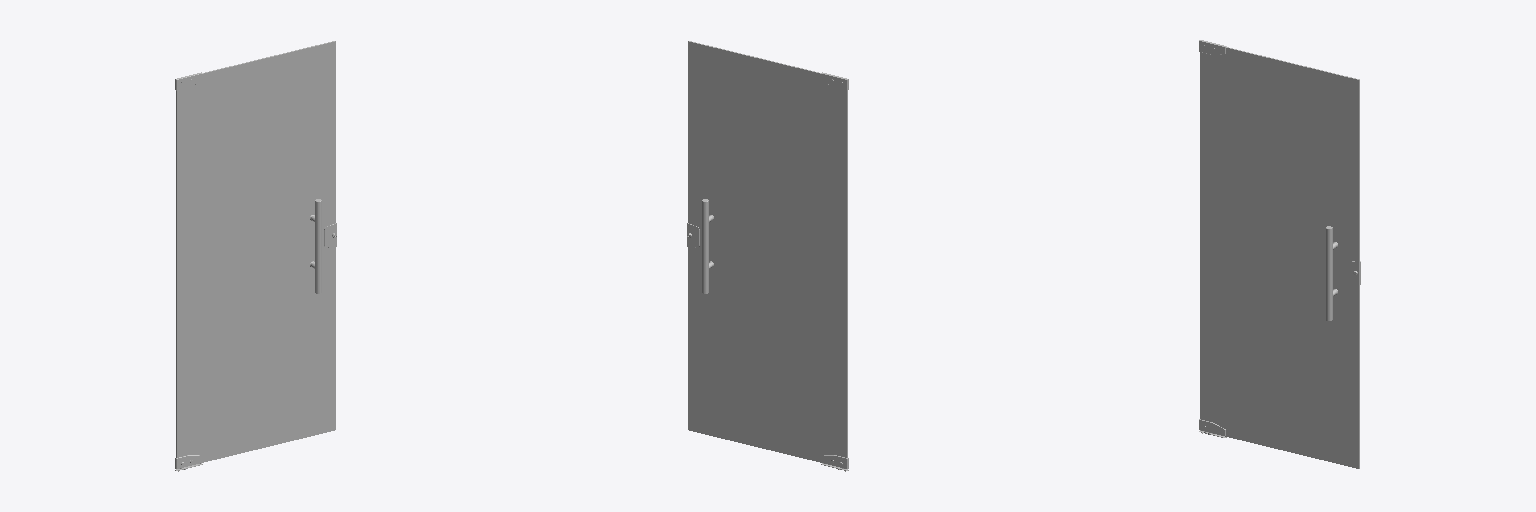
Rendered from door10.obj.
3 views of the same model, side by side, from view 1: azimuth 30°, elevation 25°; view 2: azimuth 150°, elevation 25°; view 3: azimuth 330°, elevation 25° (orthographic).
Parts seen in each view (by area): view 1: Cube_Cube.001, Cylinder.007_Cylinder.008, Cube.003_Cube.004; view 2: Cube_Cube.001, Cylinder.007_Cylinder.008, Cube.003_Cube.004; view 3: Cube_Cube.001, Cylinder.007_Cylinder.008, Cube.003_Cube.004.
Boxes of the visible parts, box(x1,y1,x2,y2) form: Cube_Cube.001: box(176, 41, 335, 462); Cylinder.007_Cylinder.008: box(310, 199, 321, 293); Cube.003_Cube.004: box(175, 72, 202, 468); Cube_Cube.001: box(688, 41, 847, 462); Cylinder.007_Cylinder.008: box(702, 199, 713, 293); Cube.003_Cube.004: box(821, 72, 848, 468); Cube_Cube.001: box(1200, 47, 1359, 468); Cylinder.007_Cylinder.008: box(1326, 226, 1337, 320); Cube.003_Cube.004: box(1199, 40, 1226, 436).
Bounding box in the file's own units: 0.9074 × 2.12 × 0.1645.